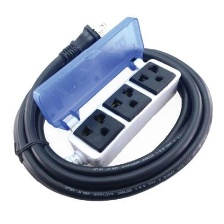three_eye_plug: (65, 54, 184, 173)
